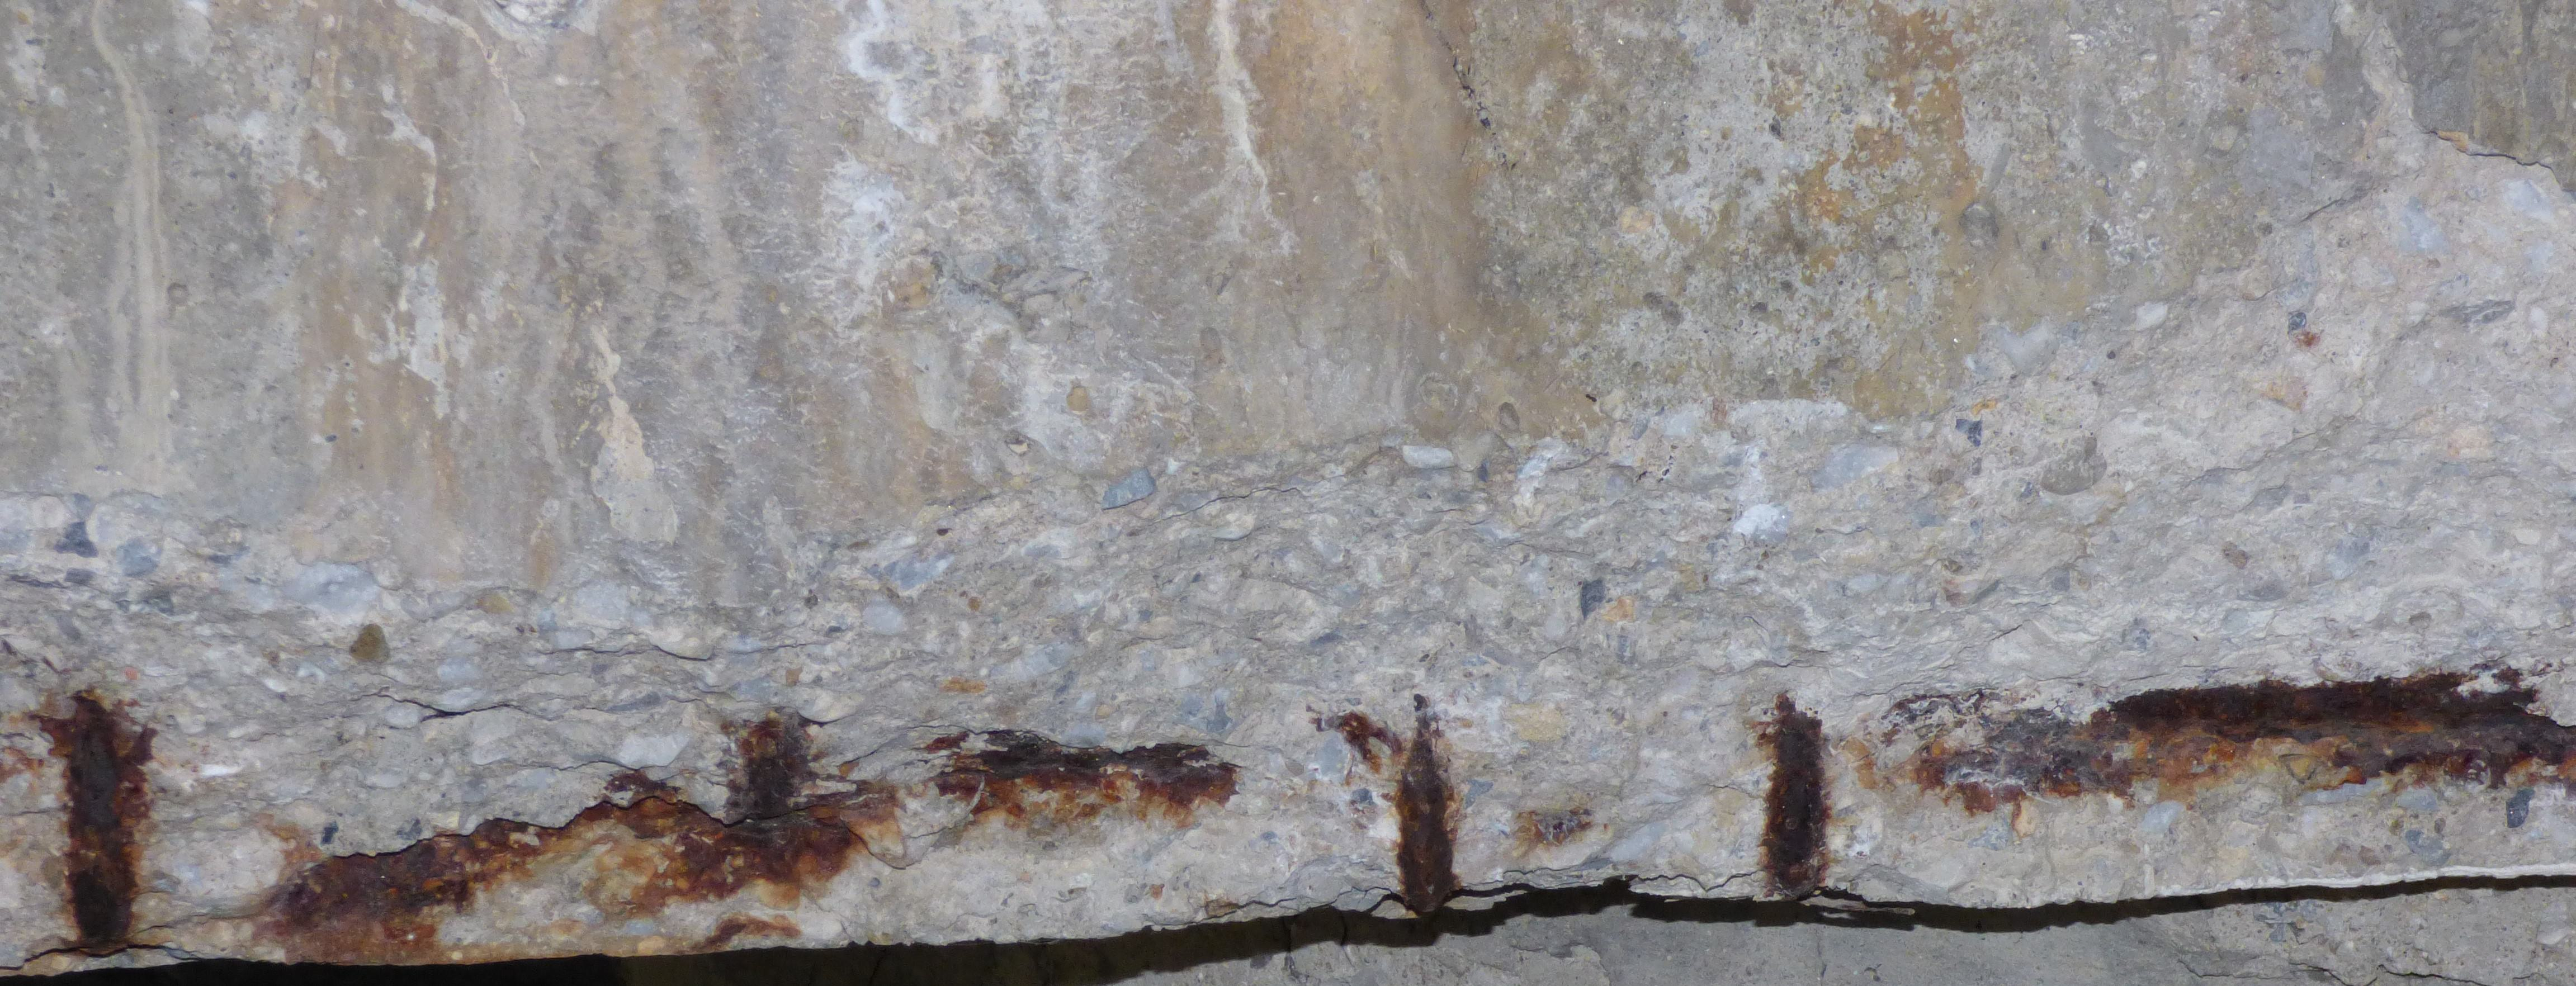Corrosion: (245, 707, 902, 966), (1906, 659, 2576, 827), (912, 728, 1240, 832), (1513, 805, 1610, 858), (1337, 712, 1403, 772)
Exposed reinforcement: (71, 716, 125, 943), (1393, 728, 1451, 914), (2292, 721, 2527, 763), (1778, 731, 1810, 887)
Spalling: (0, 125, 2576, 981)
